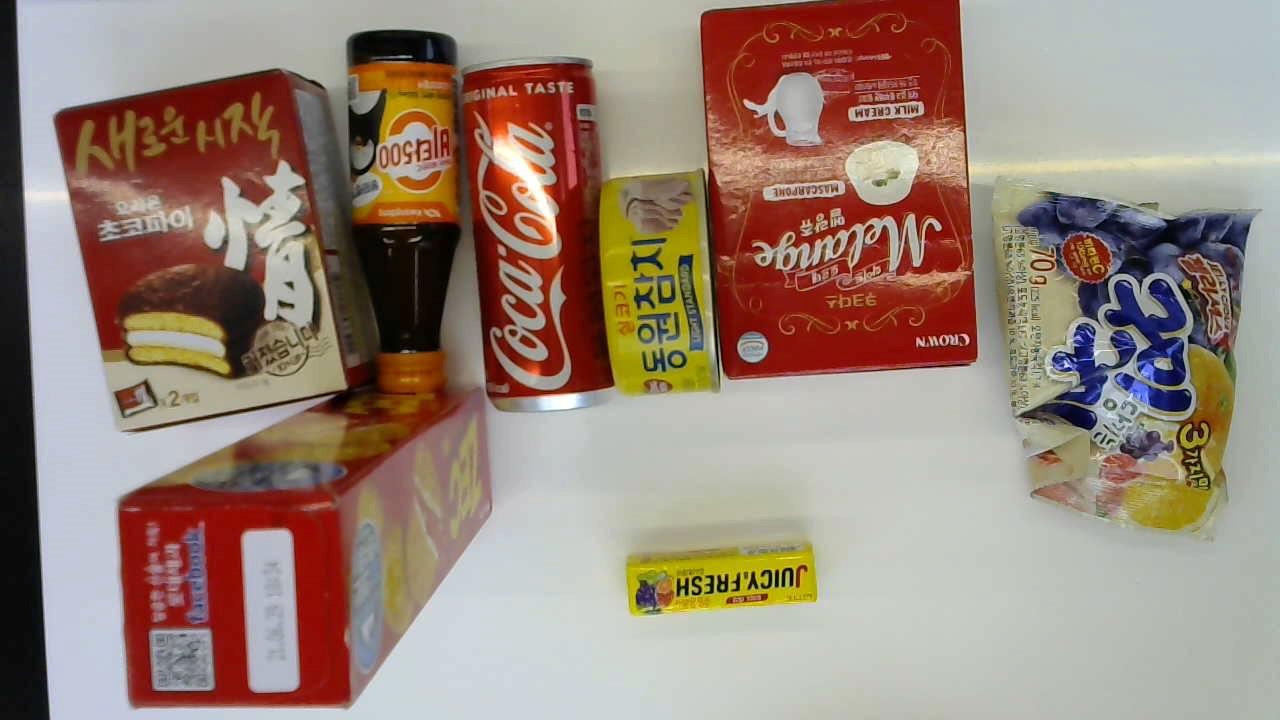chocopie: (60, 70, 367, 432)
coke: (467, 54, 609, 410)
couque_white: (694, 2, 979, 378)
gumi_gumi: (991, 170, 1254, 541)
juicyfresh: (621, 533, 829, 620)
tuna: (603, 163, 720, 401)
vita500: (345, 30, 466, 396)
zec: (122, 391, 492, 711)
